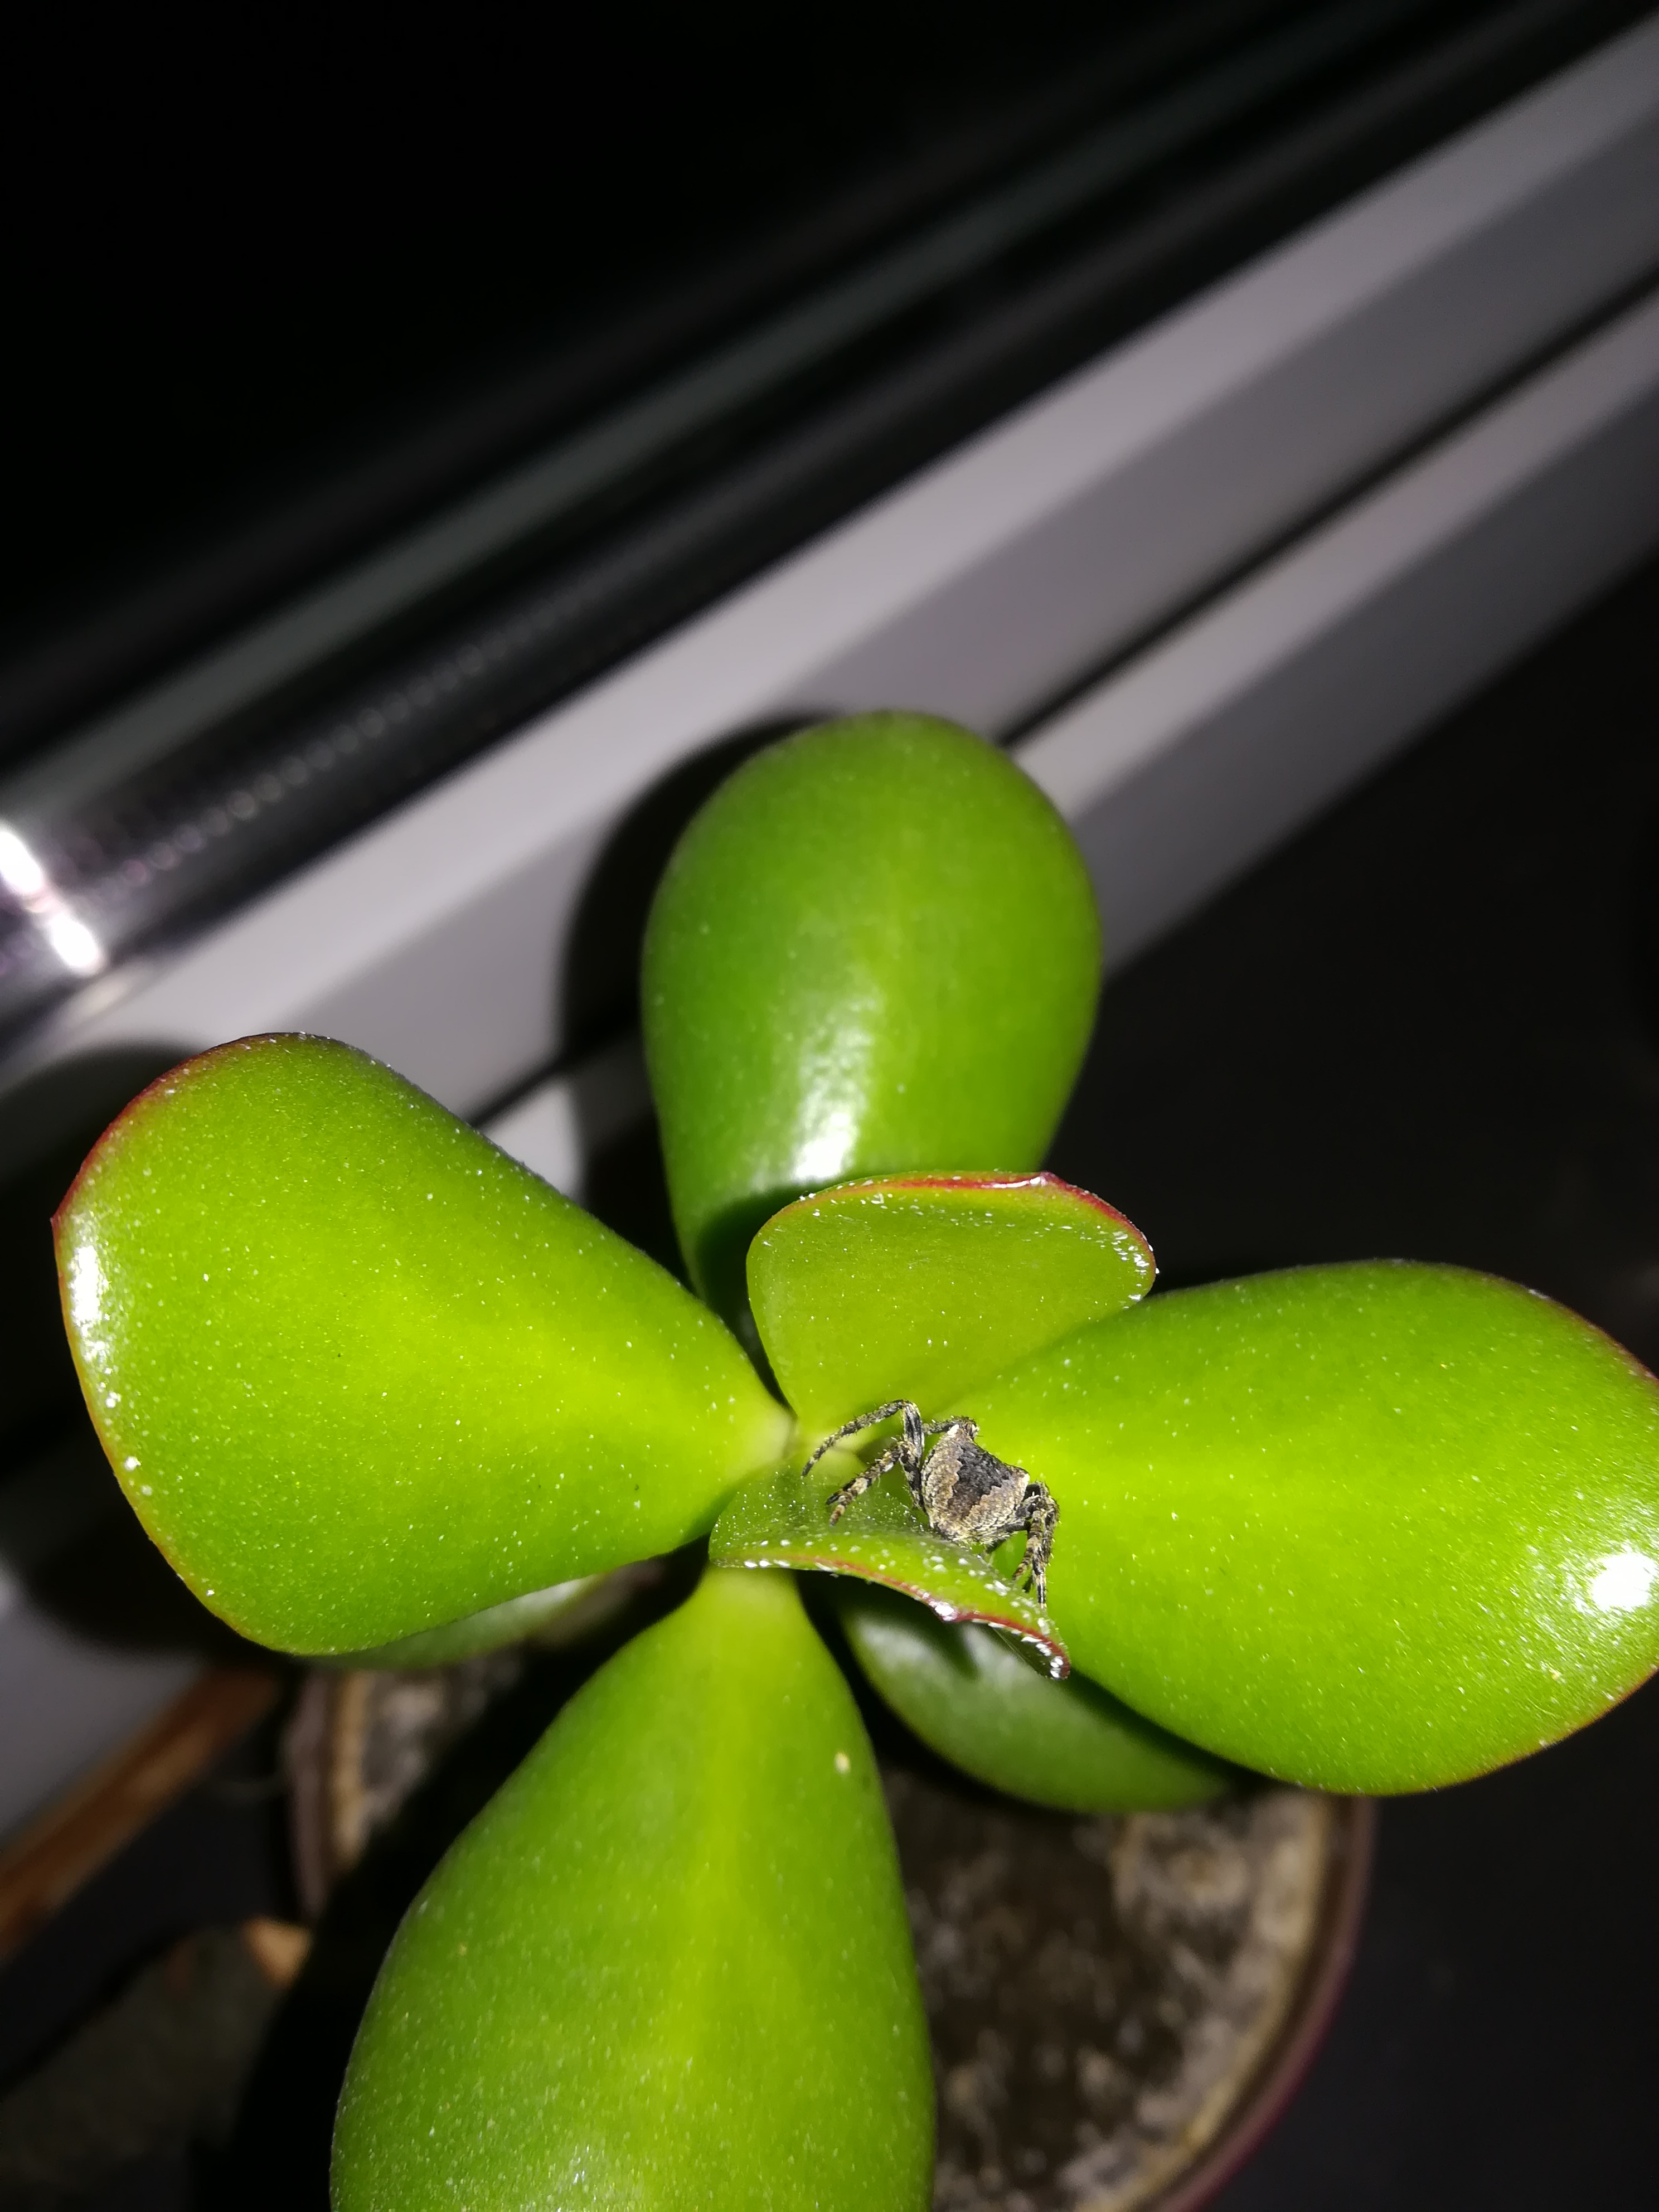spider: (802, 1355, 1126, 1646)
